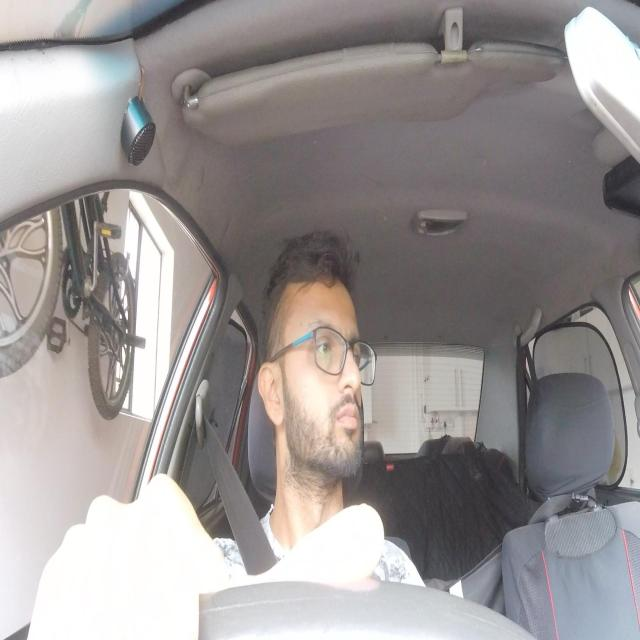open: (304, 313, 342, 384)
